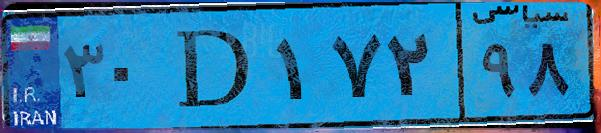0: (110, 28, 158, 98)
1: (270, 28, 330, 110)
2: (385, 28, 445, 110)
3: (57, 26, 110, 100)
7: (330, 28, 385, 110)
8: (525, 38, 570, 115)
9: (475, 38, 525, 113)
D: (158, 12, 270, 120)
